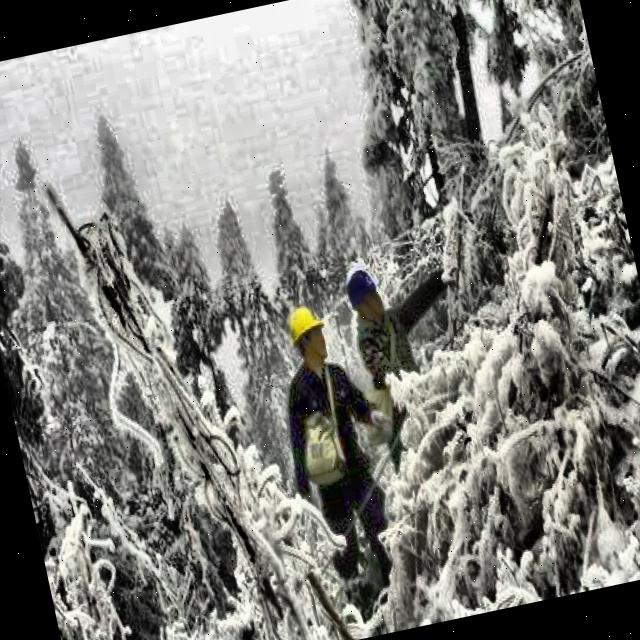helmet: (280, 296, 334, 372), (343, 262, 387, 328)
